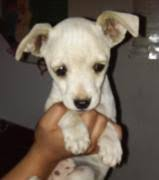chihuahua: (6, 8, 145, 172)
